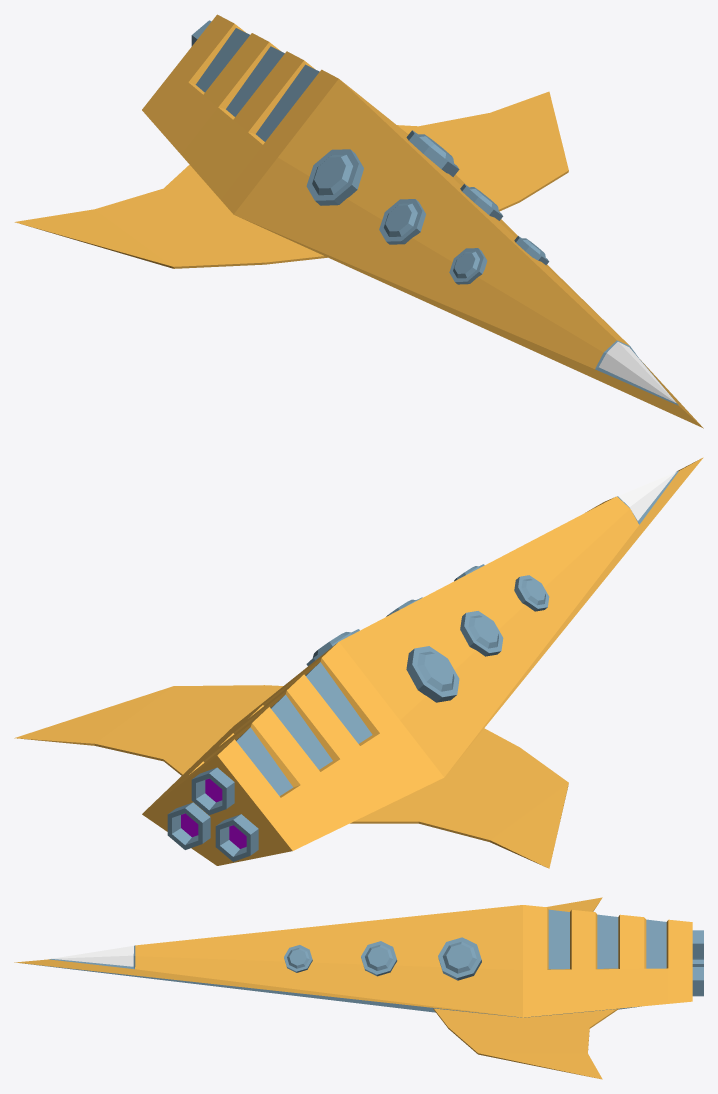
The model's file is needle.fbx.
3 views of the same model, one above another, from view 1: azimuth 30°, elevation 25°; view 2: azimuth 150°, elevation 25°; view 3: azimuth 270°, elevation 25° (orthographic). The views are drawn at different scales.
Parts seen in each view (by area): view 1: spaceship_mat_001; view 2: spaceship_mat_001; view 3: spaceship_mat_001.
Boxes of the visible parts, x1,y1,x2,y2 form: spaceship_mat_001: (14,14,703,428); spaceship_mat_001: (14,457,703,868); spaceship_mat_001: (14,897,703,1079).
Bounding box in the file's own units: 508 × 154 × 813.
